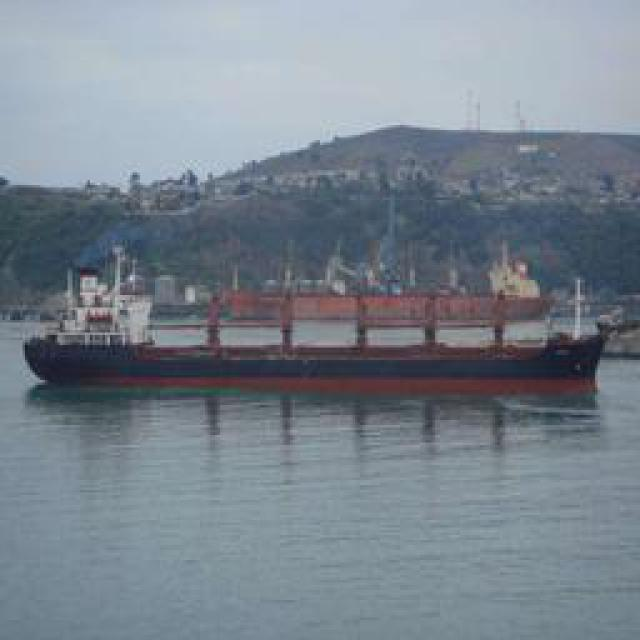Ship: (34, 267, 604, 397)
